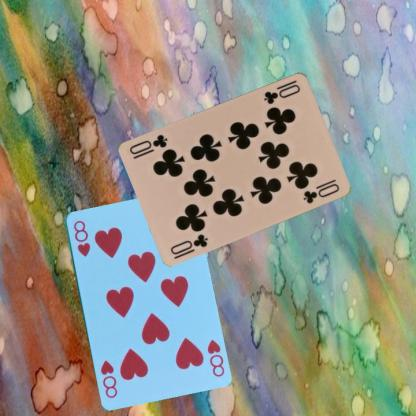10c: (168, 231, 210, 260), (261, 81, 302, 105)
8h: (204, 336, 225, 378), (70, 218, 92, 258)
